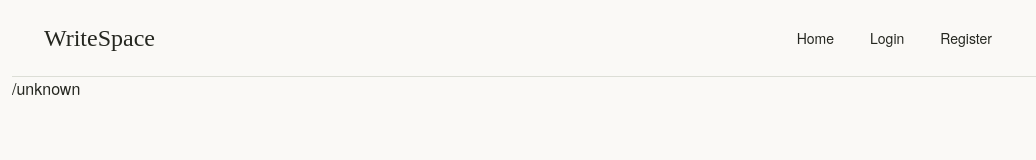
PublicNavbar › navigates via the Register link only when activated
Expected: the text named "Current route" reads "/unknown", [12, 77, 80, 100]
Click the link "Register" at coordinates (966, 38), box [940, 28, 992, 48]
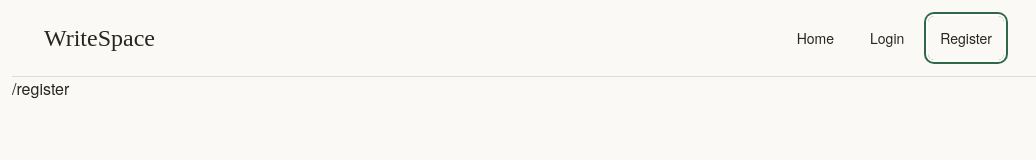
Result: the text named "Current route" reads "/register" at [12, 77, 69, 100]
